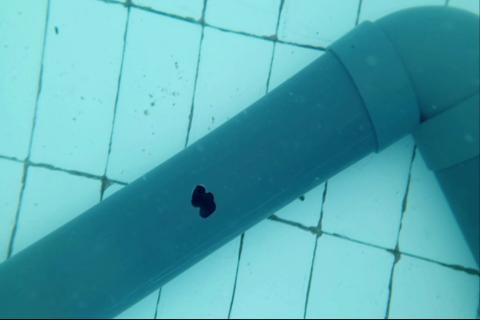kebocoran: (191, 182, 216, 220)
